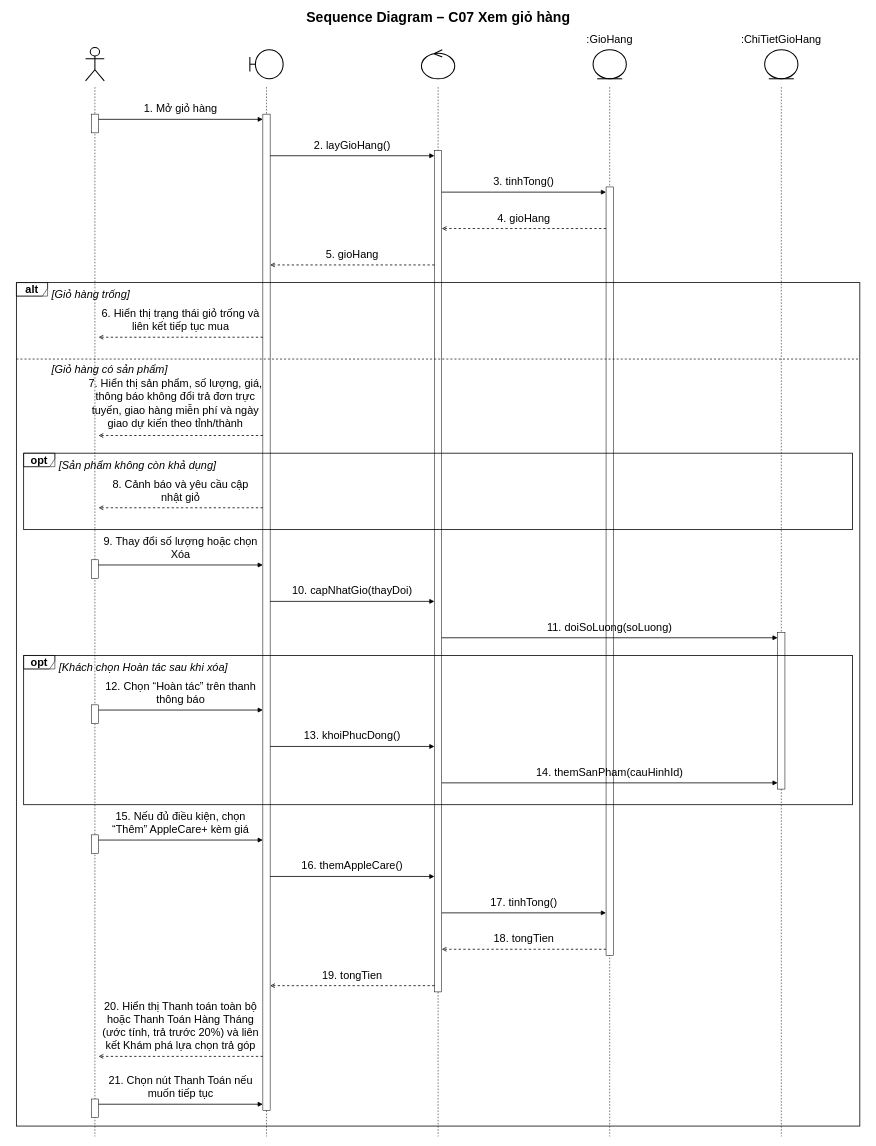
Image size: 876x1146. Some labels were removed from this diagram. Each missing label, with the box of its shape:
:Khách hàng: (85, 47, 105, 81)
:QuanLyGioHangController: (421, 49, 455, 79)
:QuanLyGioHangPage: (249, 49, 283, 79)
